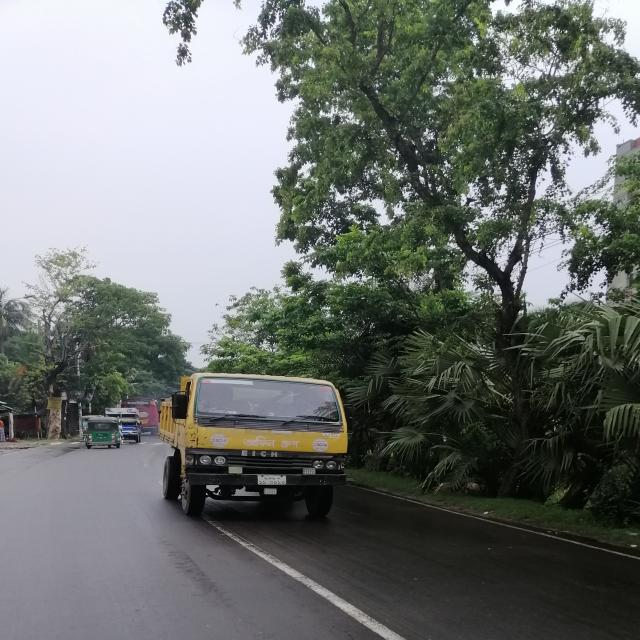Pick-up-van: (132, 355, 358, 536)
